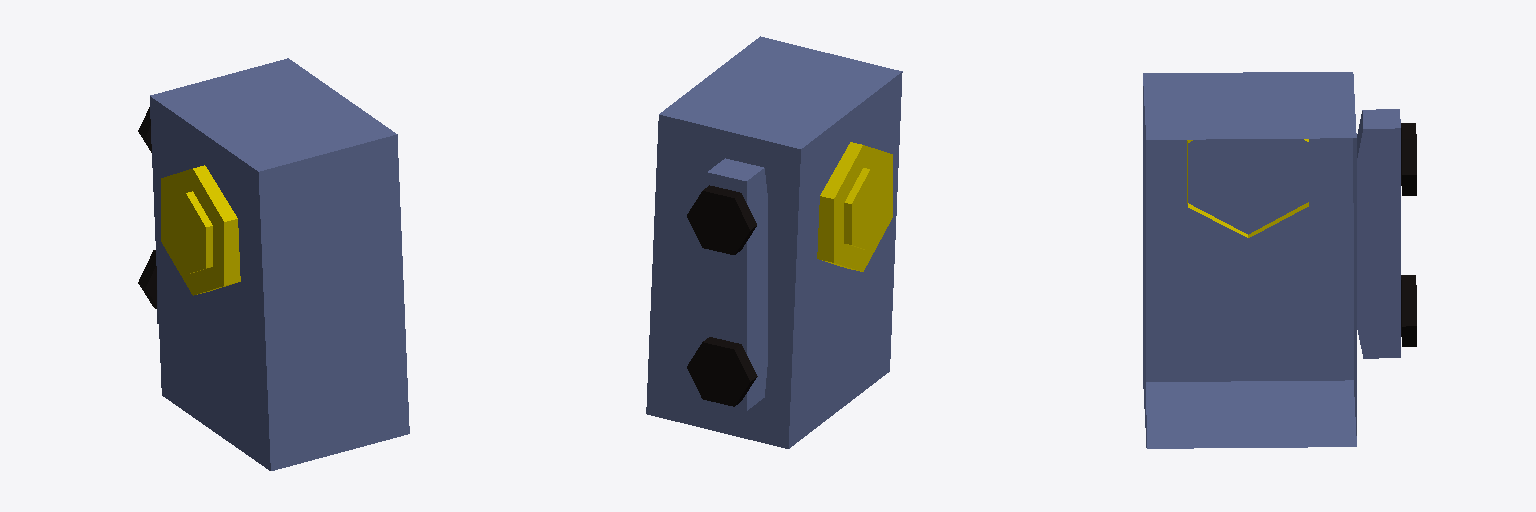
3 views of the same model, side by side, from view 1: azimuth 30°, elevation 25°; view 2: azimuth 150°, elevation 25°; view 3: azimuth 270°, elevation 25° (orthographic).
Parts seen in each view (by area): view 1: telefono:polySurface7; view 2: telefono:polySurface7; view 3: telefono:polySurface7.
Part boxes in pixels (x1,y1,x2,y2): telefono:polySurface7: (138,58,409,470); telefono:polySurface7: (646,36,902,448); telefono:polySurface7: (1143,72,1416,448).
Size of the model in its own units: 0.1405 by 0.2349 by 0.1916.
Materials: 3 (3 with a texture image).